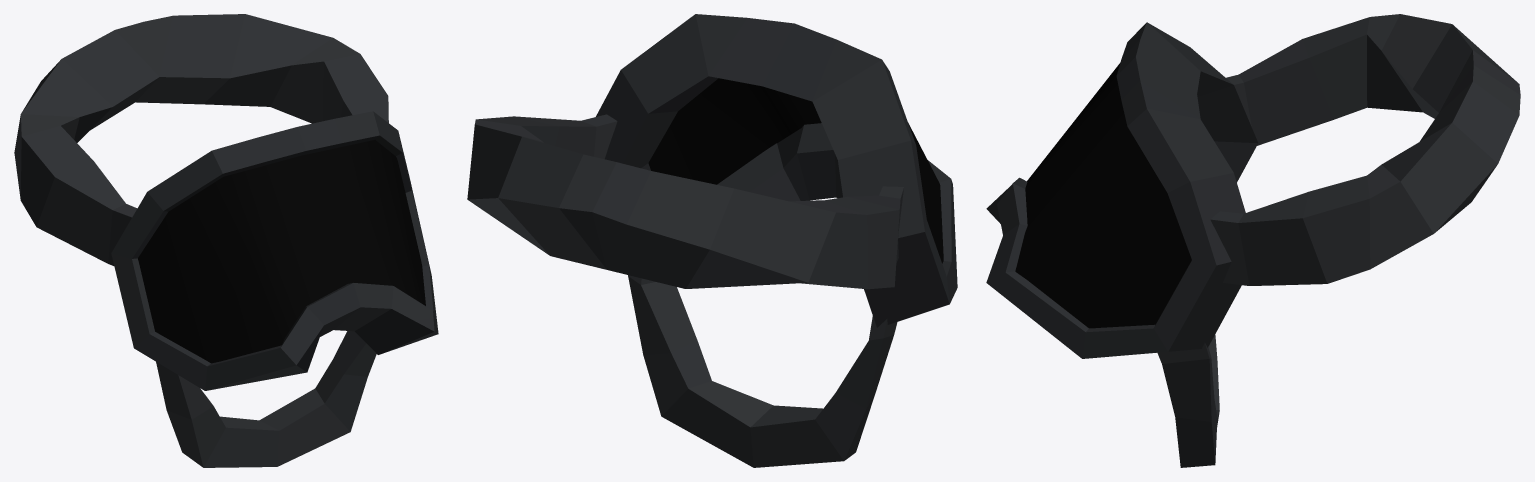
Rendered from SM_Chr_Attach_Head_Goggles_Medium_01.fbx.
The picture shows the model from 3 angles, left to right: view 1: azimuth 30°, elevation 25°; view 2: azimuth 150°, elevation 25°; view 3: azimuth 270°, elevation 25°; orthographic projection. The views are drawn at different scales.
Parts seen in each view (by area): view 1: SM_Chr_Attach_Head_Goggles_Medium_01; view 2: SM_Chr_Attach_Head_Goggles_Medium_01; view 3: SM_Chr_Attach_Head_Goggles_Medium_01.
Boxes of the visible parts, bbox=[...] form: SM_Chr_Attach_Head_Goggles_Medium_01: bbox=[14, 14, 438, 467]; SM_Chr_Attach_Head_Goggles_Medium_01: bbox=[467, 14, 957, 467]; SM_Chr_Attach_Head_Goggles_Medium_01: bbox=[986, 14, 1520, 467].
Bounding box in the file's own units: 21.94 × 21.63 × 26.57.
